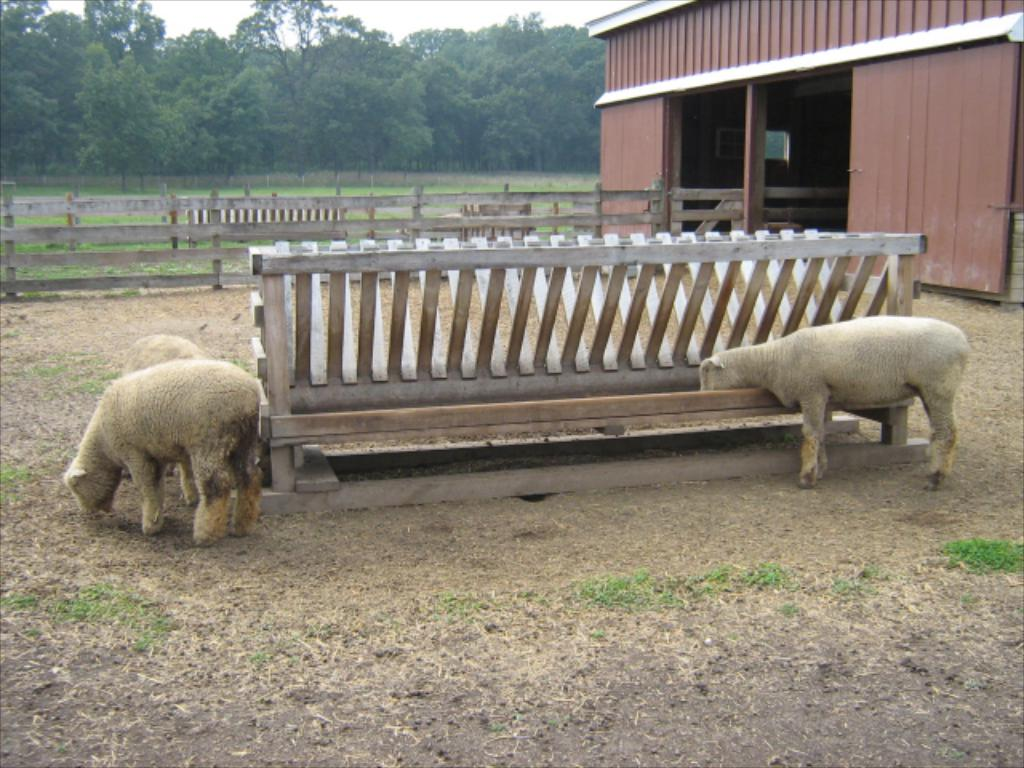sheep: (697, 313, 972, 489), (62, 355, 260, 542)
